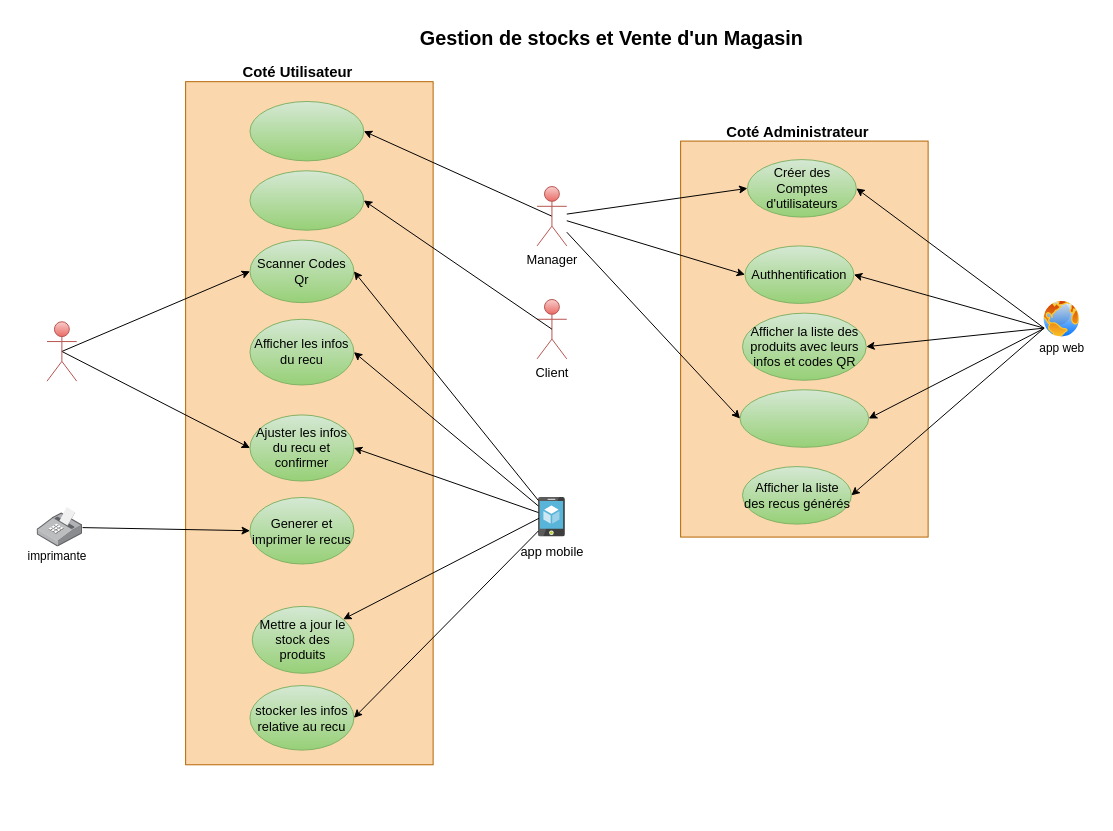
Some shapes in this 1113 by 831 pixel diagram are drawn without their labels. The centre of each missing label's shape, as x and y in pixels:
"Ajouter, Modifier et Suprimer des Produits" goes at point 804,418.
"Caissier" goes at point 61,351.
"coller les codes qr sur les produits" goes at point 306,130.
"Selectioner les Produits" goes at point 306,200.
